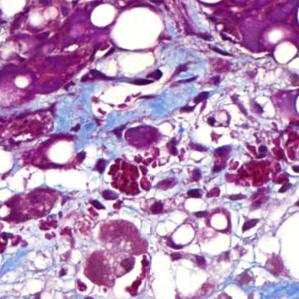steatosis: (87, 0, 117, 28)
